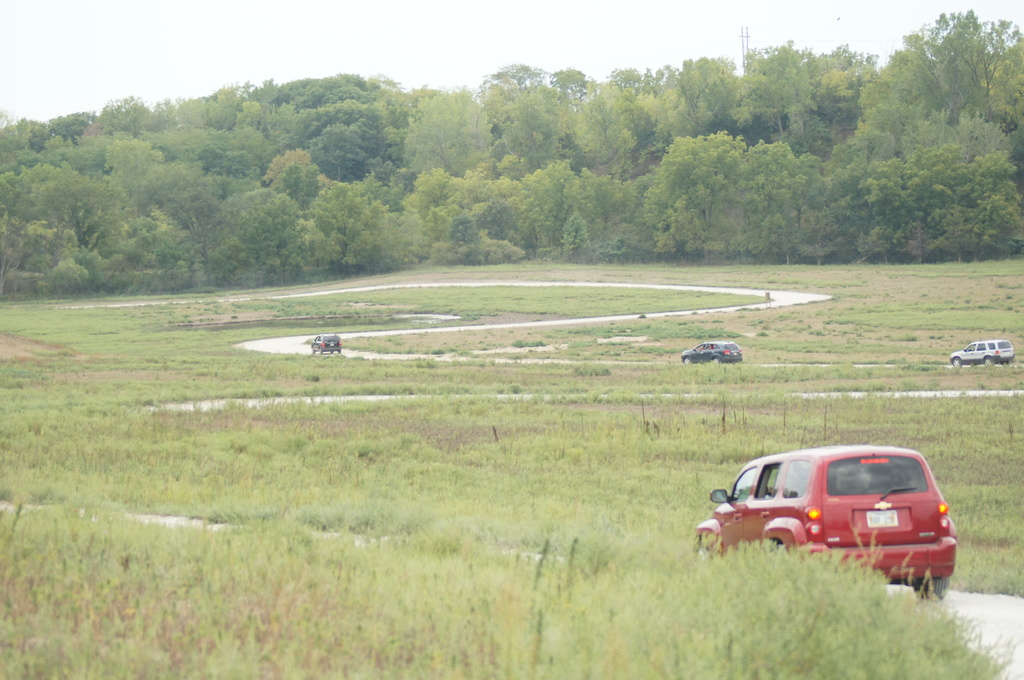cars: (699, 436, 958, 595), (948, 341, 1012, 366), (683, 344, 742, 363), (310, 334, 344, 347)
